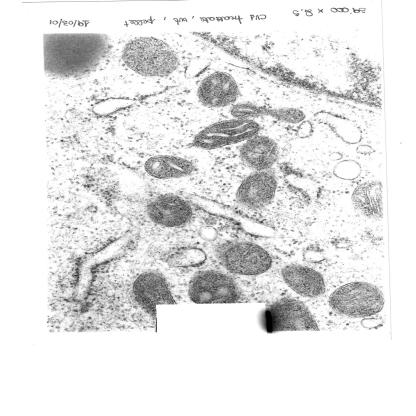mitochondria: (123, 37, 178, 76), (328, 281, 385, 318), (216, 241, 273, 276), (194, 119, 262, 148), (134, 272, 176, 316), (233, 170, 279, 208), (190, 270, 240, 303), (146, 194, 193, 228), (197, 71, 240, 108), (230, 102, 305, 123), (271, 298, 320, 330), (282, 265, 326, 298), (144, 153, 196, 179), (240, 135, 280, 168), (353, 181, 383, 220)
